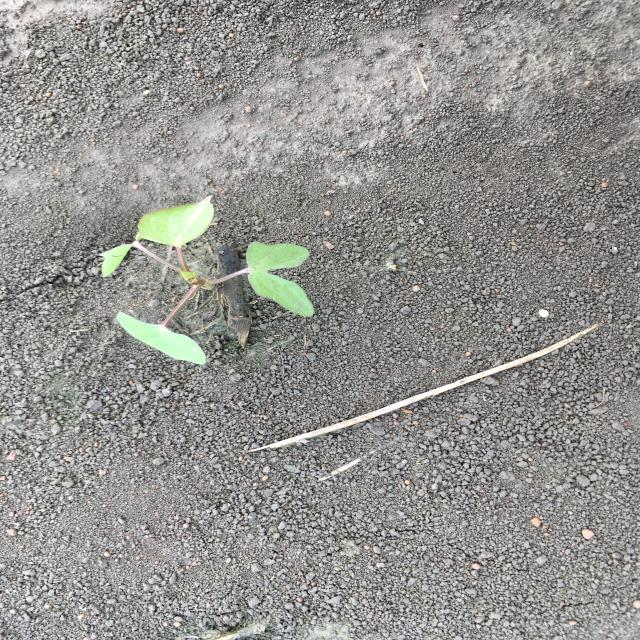MorningGlory: (95, 194, 318, 366)
